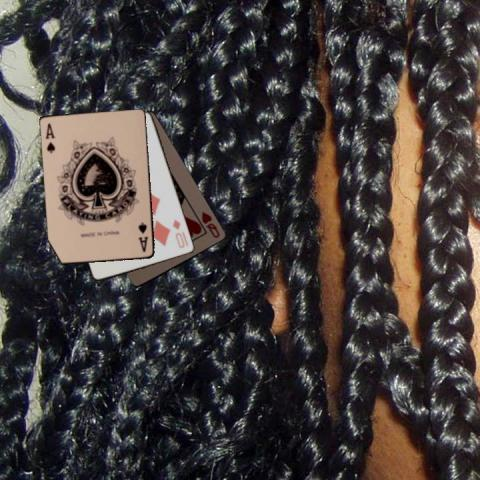10d: (170, 217, 186, 249)
As: (42, 120, 57, 154), (136, 220, 150, 253)
Qh: (199, 209, 221, 239)
